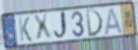3: (70, 10, 85, 39)
A: (104, 7, 124, 36)
D: (85, 8, 104, 38)
J: (53, 10, 69, 42)
K: (17, 16, 33, 43)
X: (32, 13, 53, 43)
